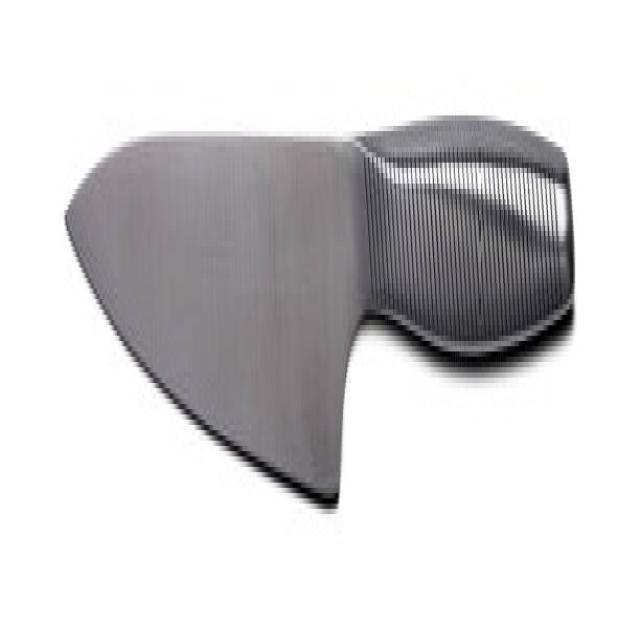knife: (61, 102, 580, 515)
